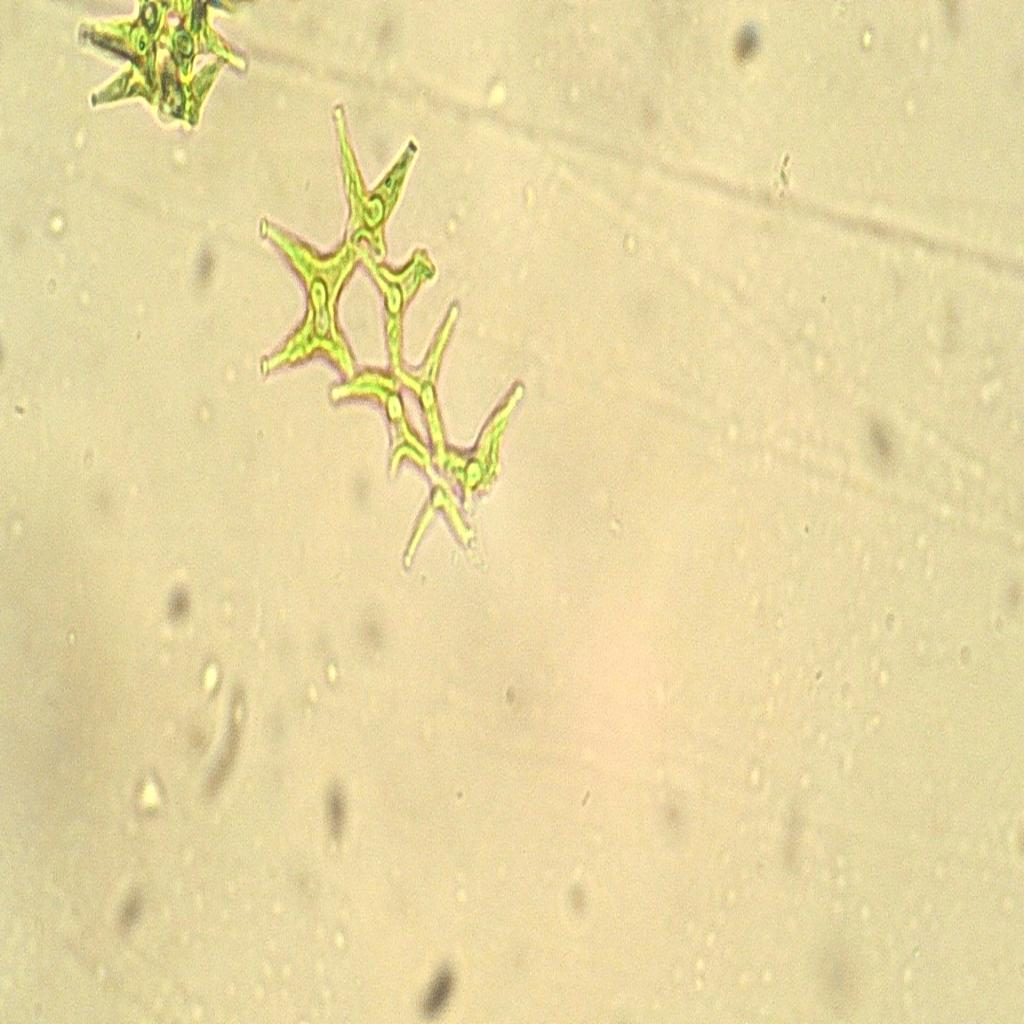Pediastrum_1TH: (248, 92, 536, 600)
